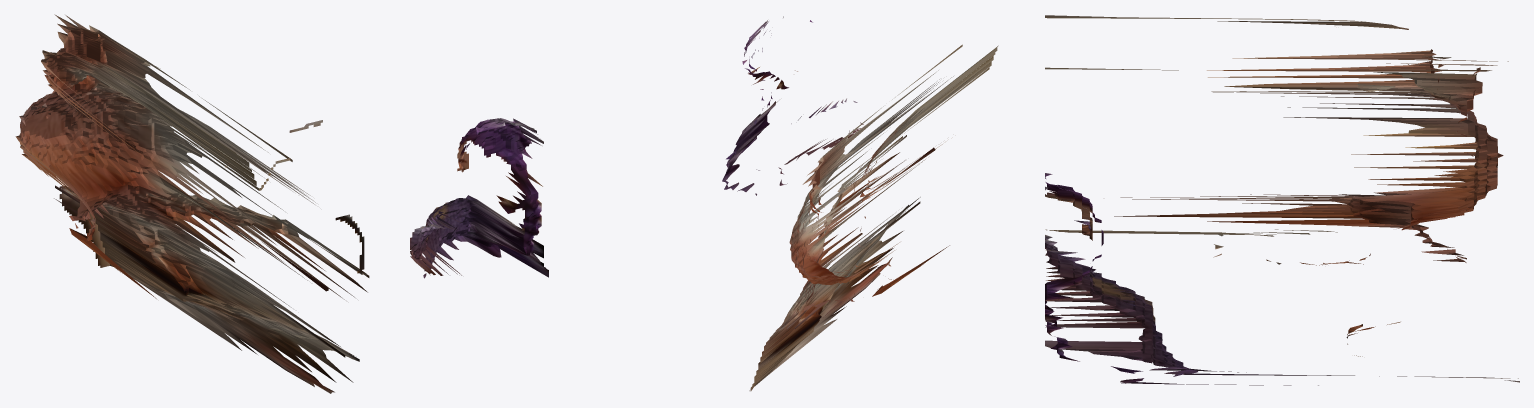
Rendered from frame_00321.glb.
3 views of the same model, side by side, from view 1: azimuth 30°, elevation 25°; view 2: azimuth 150°, elevation 25°; view 3: azimuth 270°, elevation 25° (orthographic). The views are drawn at different scales.
Visible parts, largest first — view 1: geometry_0; view 2: geometry_0; view 3: geometry_0.
Boxes of the visible parts, left/top/right/bottom form: geometry_0: left=15, top=14, right=548, bottom=393; geometry_0: left=722, top=16, right=998, bottom=391; geometry_0: left=1045, top=15, right=1519, bottom=385.
Size of the model in its own units: 0.1367 by 0.1154 by 0.16.
1 material, 1 textured.
